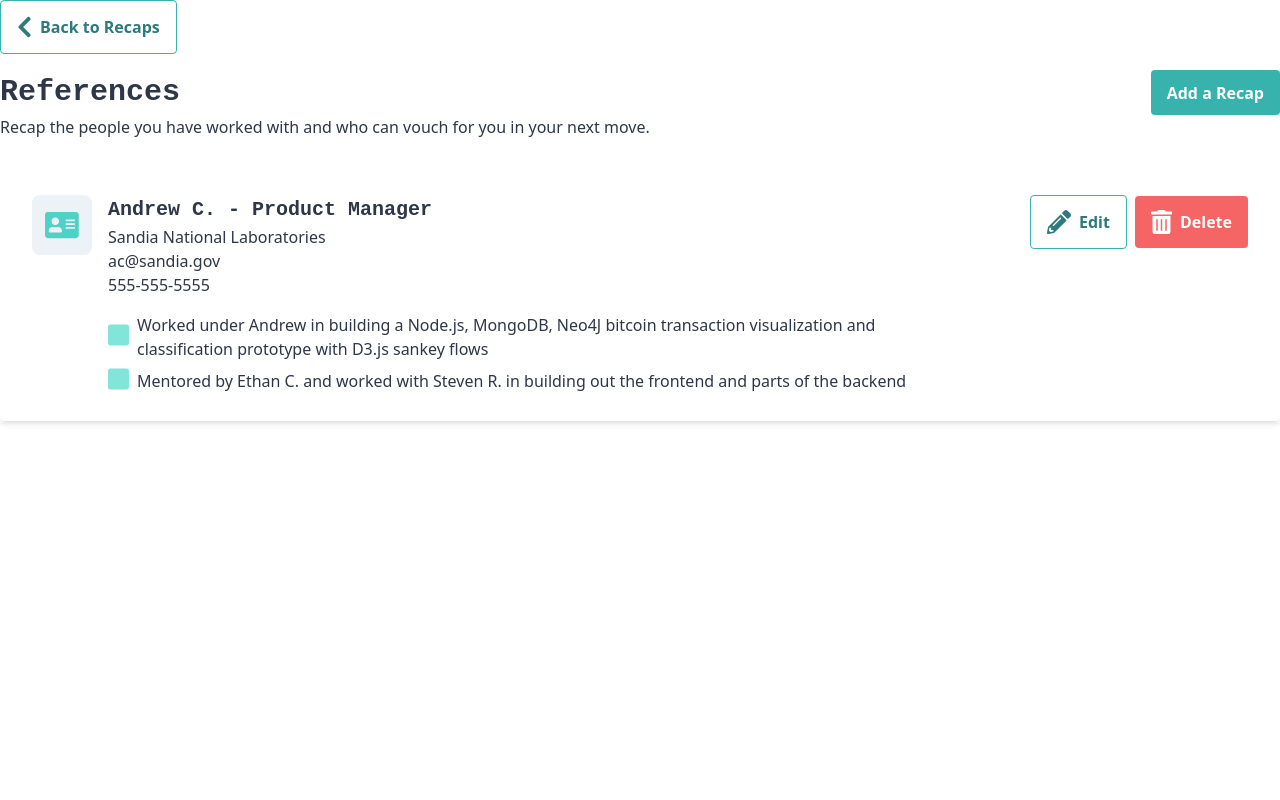
Scenario: <ReferencesLayout /> › should show the error alert after failing to delete a recap
Click the button "Delete": [1192, 222] box [1135,196,1248,248]
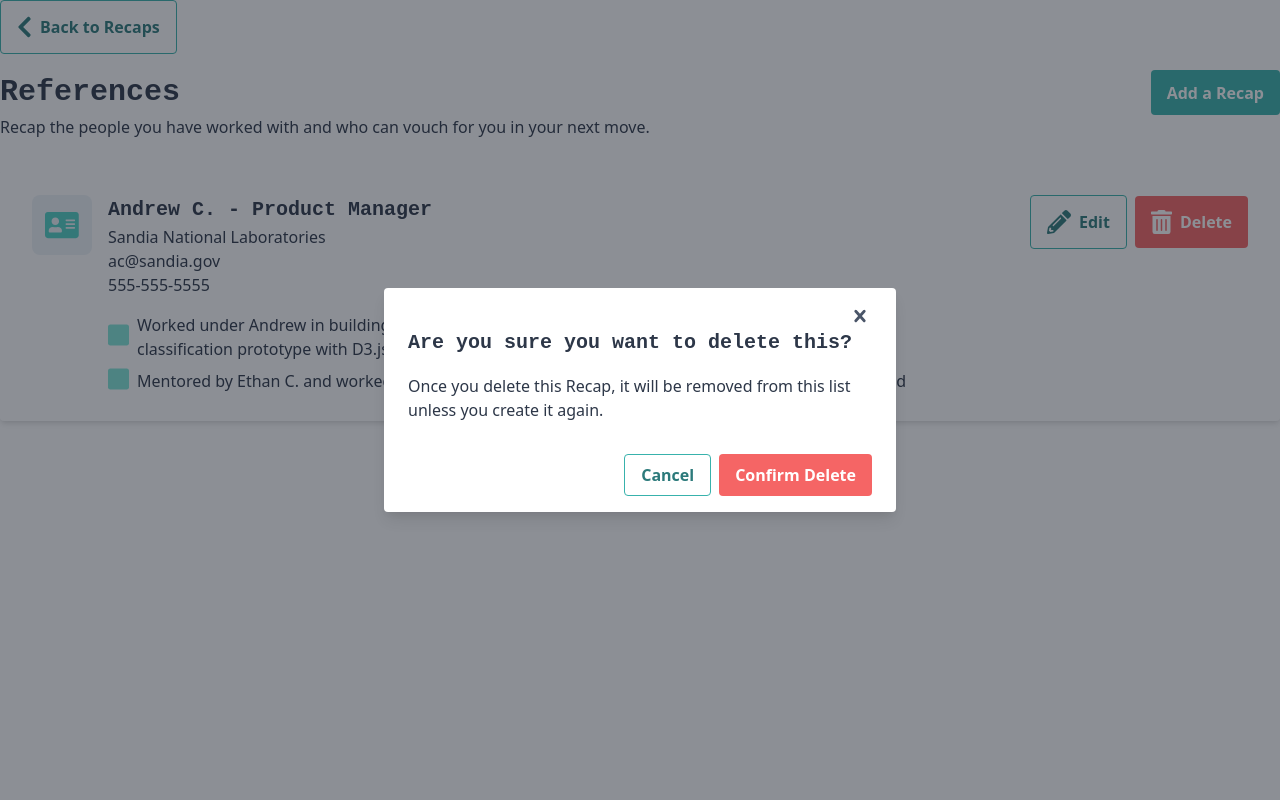
expect the heading "Are you sure you want to delete this?" is shown: met, box [408,328,872,358]
Click the button "Confirm Delete": [796, 475] box [719,454,872,496]
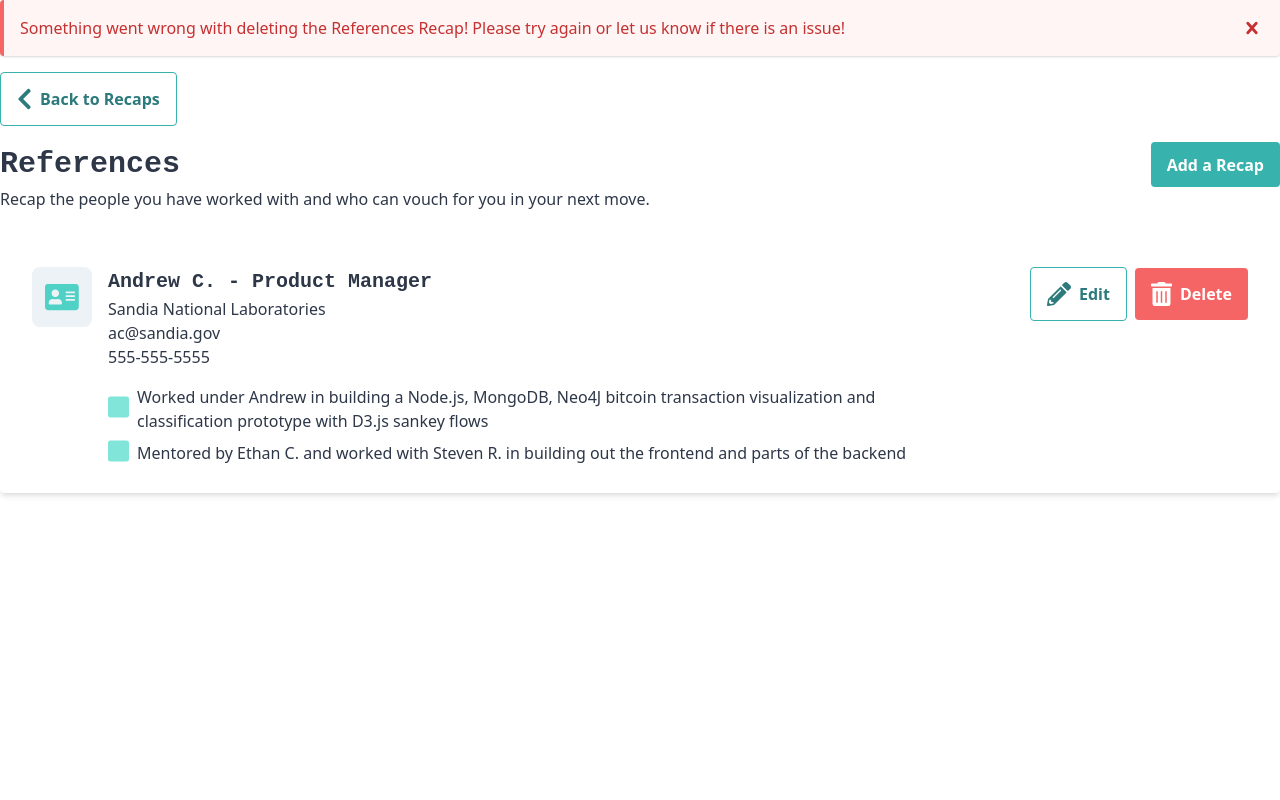
expect the heading "Are you sure you want to delete this?" is gone: met
expect the text "Something went wrong with deleting the References Recap!" is shown: met, box [20,17,845,39]
